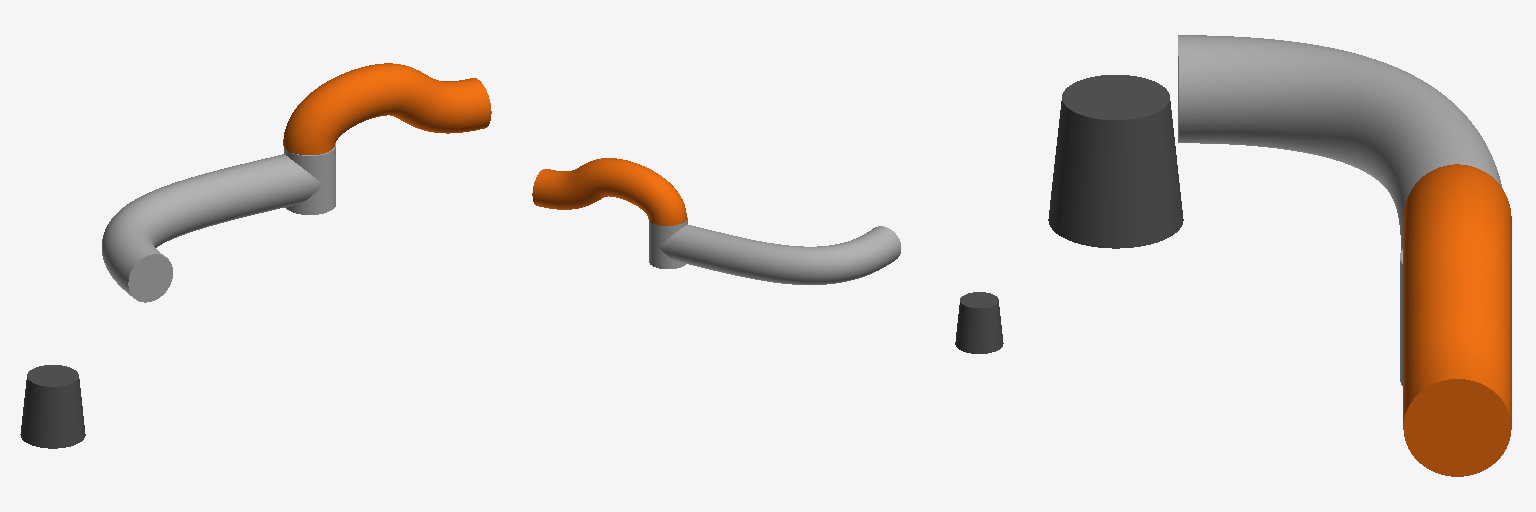
The robot description file, URDF, robot "custom_3r":
<?xml version="1.0" encoding="UTF-8"?>
<robot name="custom_3r">
  
  <!--
  Initial assembly generated from the supplied STL meshes and joint data.
  
  Assumption for this first version:
  - Each STL is expressed in its corresponding link frame.
  - Therefore visual/collision mesh origins are xyz="0 0 0", rpy="0 0 0".
  - The joint origins below are used exactly as supplied and are relative
  to their parent link frames, as required by URDF.
  
  Units:
  - STL geometry appears to be in metres.
  - URDF distances are metres and angles are radians.
  -->
  
  <material name="color_1">
  <color rgba="0.35 0.35 0.35 1.0"/>
  </material>
  <material name="color_2">
  <color rgba="0.95 0.45 0.08 1.0"/>
  </material>
  <material name="color_1">
  <color rgba="0.20 0.22 0.23 1.0"/>
  </material>
  
  <material name="color_2">
  <color rgba="0.05 0.42 0.43 1.0"/>
  </material>
  
  <material name="gray_white">
  <color rgba="0.7 0.7 0.7 1.0"/>
  </material>
  
  <link name="base_link">
  <visual>
  <origin xyz="0 0 0" rpy="0 0 0"/>
  <geometry>
  <mesh filename="package://custom_3r_description/meshes/base_link.stl"/>
  </geometry>
  <material name="color_1"/>
  </visual>
  <collision>
  <origin xyz="0 0 0" rpy="0 0 0"/>
  <geometry>
  <mesh filename="package://custom_3r_description/meshes/base_link.stl"/>
  </geometry>
  </collision>
  </link>
  
  <link name="link_1">
  <visual>
  <origin xyz="0 0 0" rpy="0 0 0"/>
  <geometry>
  <mesh filename="package://custom_3r_description/meshes/link_1.stl"/>
  </geometry>
  <material name="color_2"/>
  </visual>
  <collision>
  <origin xyz="0 0 0" rpy="0 0 0"/>
  <geometry>
  <mesh filename="package://custom_3r_description/meshes/link_1.stl"/>
  </geometry>
  </collision>
  </link>
  
  <joint name="joint_1" type="revolute">
  <parent link="base_link"/>
  <child link="link_1"/>
  <origin xyz="0 0 0.5" rpy="0 0 0"/>
  <axis xyz="0 0 1"/>
  <limit lower="-3.141592653589793" upper="3.141592653589793" effort="100" velocity="2.0"/>
  </joint>
  
  <link name="link_2">
  <visual>
  <origin xyz="0 0.25 0" rpy="0 0 -1.5707"/>
  <geometry>
  <mesh filename="package://custom_3r_description/meshes/link_2.stl" scale="1 1 1"/>
  </geometry>
  <material name="gray_white"/>
  </visual>
  <collision>
  <origin xyz="0 0 0" rpy="0 0 0"/>
  <geometry>
  <mesh filename="package://custom_3r_description/meshes/link_2.stl"/>
  </geometry>
  </collision>
  </link>
  
  <joint name="joint_2" type="revolute">
  <parent link="link_1"/>
  <child link="link_2"/>
  <origin xyz="1 0 0.5" rpy="0 0 0"/>
  <axis xyz="0 1 0"/>
  <limit lower="-3.141592653589793" upper="3.141592653589793" effort="100" velocity="2.0"/>
  </joint>
  
  <link name="link_3">
  <visual>
  <origin xyz="0 0 0.25" rpy="0 0 0"/>
  <geometry>
  <mesh filename="package://custom_3r_description/meshes/link_3.stl" scale="1 1 1"/>
  </geometry>
  <material name="color_2"/>
  </visual>
  <collision>
  <origin xyz="0 0 0" rpy="0 0 0"/>
  <geometry>
  <mesh filename="package://custom_3r_description/meshes/link_3.stl"/>
  </geometry>
  </collision>
  </link>
  
  <joint name="joint_3" type="revolute">
  <parent link="link_2"/>
  <child link="link_3"/>
  <origin xyz="2 1.25 0.0" rpy="0 0 0"/>
  <axis xyz="0 0 1"/>
  <limit lower="-3.141592653589793" upper="3.141592653589793" effort="100" velocity="2.0"/>
  </joint>
  
  <!-- Convenient fixed end-effector frame at link_3 origin for now.
  Move this origin later if the actual TCP is elsewhere. -->
  <link name="tool0"/>
  <joint name="tool0_fixed_joint" type="fixed">
  <parent link="link_3"/>
  <child link="tool0"/>
  <origin xyz="1.5 0 0.75" rpy="0 0 0"/>
  </joint>
  
</robot>

--- What the picture shows (computed from the rendered views, not written in the file) ---
The picture shows the robot from 3 angles, left to right: view 1: azimuth 30°, elevation 25°; view 2: azimuth 150°, elevation 25°; view 3: azimuth 270°, elevation 25°; orthographic projection.
Robot: custom_3r — 5 links, 4 joints (3 revolute, 1 fixed); root link base_link; default pose: every joint at zero.
Links seen in each view (by area): view 1: link_2, link_3, base_link; view 2: link_2, link_3, base_link; view 3: link_2, link_3, base_link.
Boxes of the visible links, x1,y1,x2,y2 form: link_2: (102,143,335,302); link_3: (283,63,491,154); base_link: (20,365,85,448); link_2: (649,217,900,284); link_3: (532,158,686,225); base_link: (955,292,1003,353); link_2: (1178,35,1502,385); link_3: (1403,164,1511,476); base_link: (1048,75,1183,248).
Size in the robot's own frame: 4.75 by 1.71 by 1.77 metres.
3 mesh visuals loaded from 4 distinct referenced files (3 binary STL); not drawn: 1 (reference not matched to a file when rendering).
